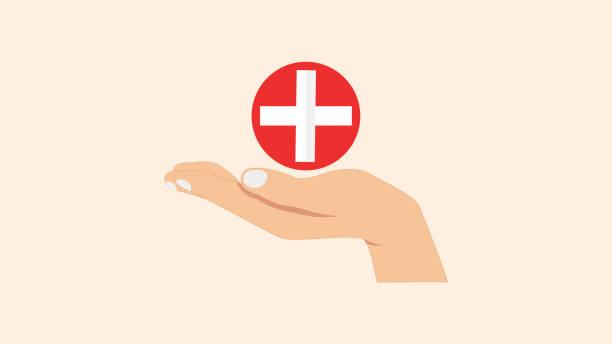AMBULANCE: (235, 51, 399, 179)
